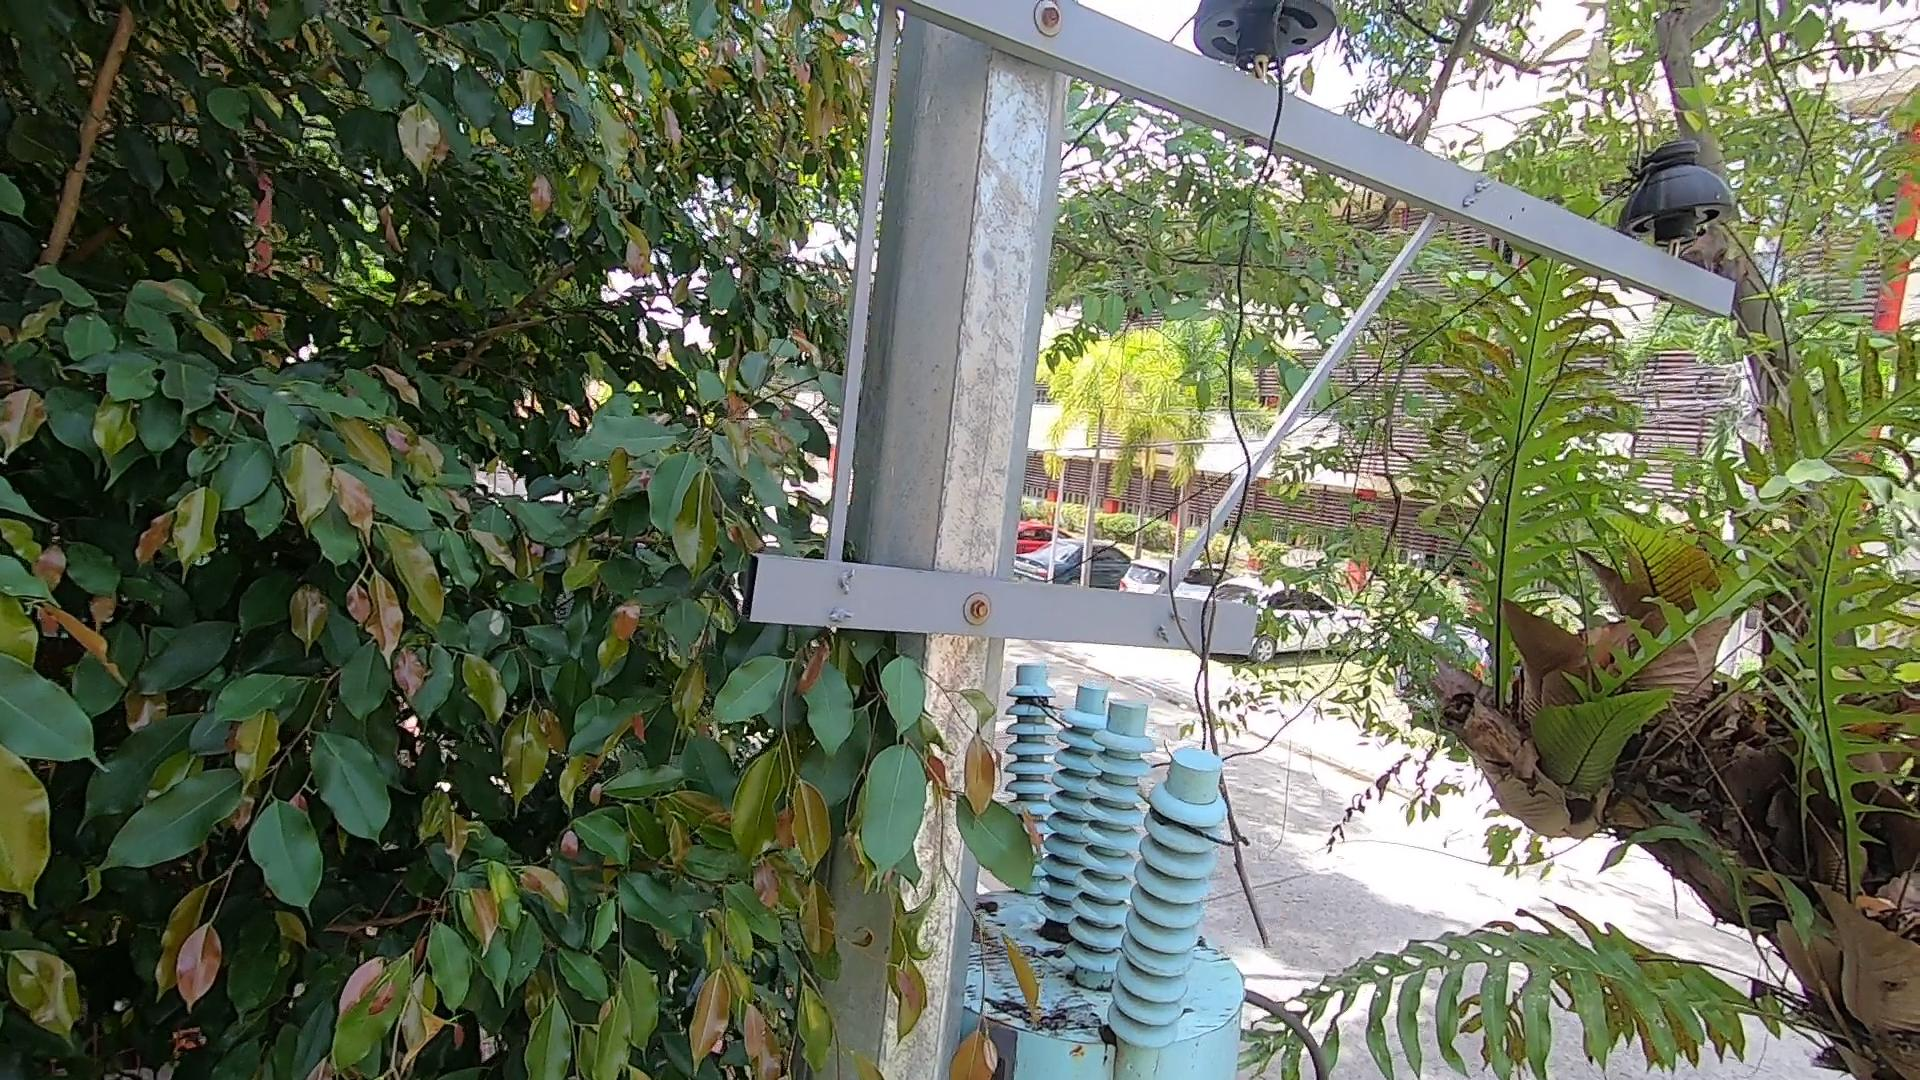tree branch: (1127, 462, 1344, 973)
